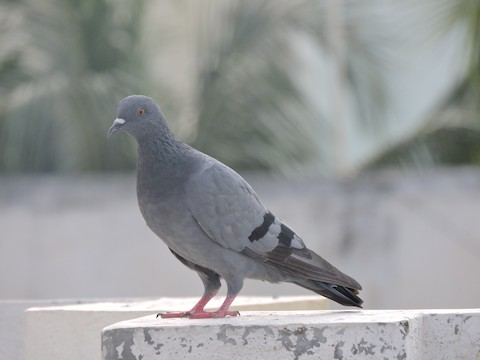pigeon: (107, 92, 368, 319)
